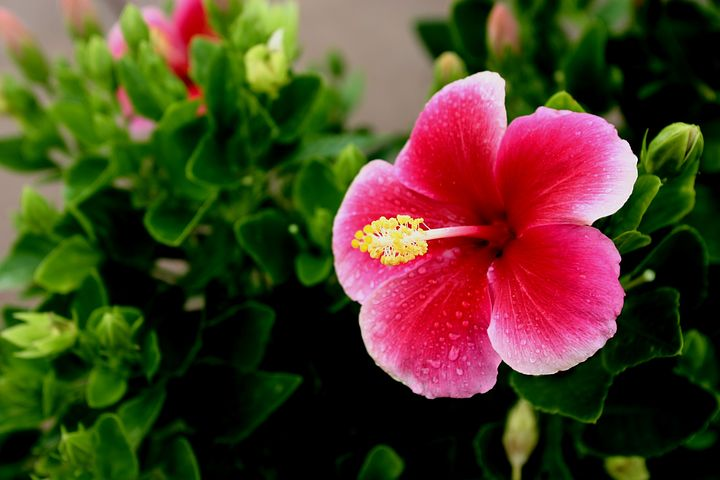Hibiscus: (326, 84, 664, 403), (645, 87, 715, 203), (464, 1, 537, 90), (1, 6, 61, 111)
